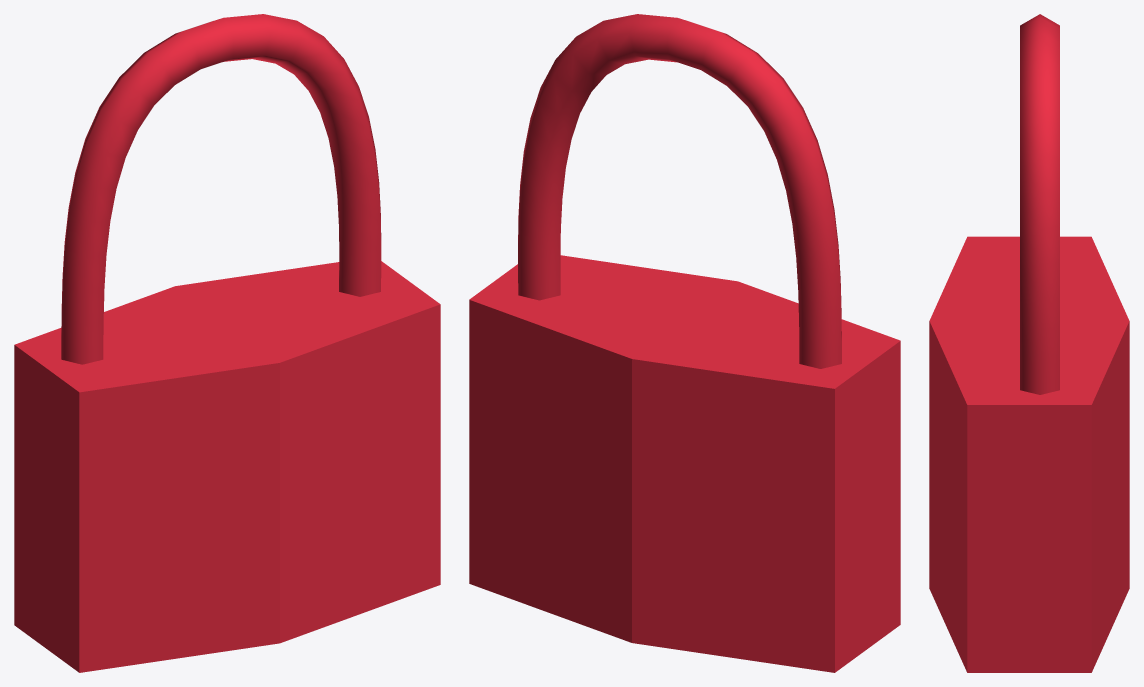
File: shack_door_lock.glb
3 renders of one model, left to right at view 1: azimuth 30°, elevation 25°; view 2: azimuth 150°, elevation 25°; view 3: azimuth 270°, elevation 25°, orthographic. The views are drawn at different scales.
Visible parts, largest first — view 1: lock, locker; view 2: lock, locker; view 3: lock, locker.
Boxes of the visible parts, <box> form: lock: <box>14,261,440,672</box>; locker: <box>61,14,381,364</box>; lock: <box>469,255,900,672</box>; locker: <box>518,14,841,368</box>; lock: <box>929,236,1129,672</box>; locker: <box>1020,14,1059,394</box>.
Bounding box in the file's own units: 0.0853 × 0.1315 × 0.0428.
